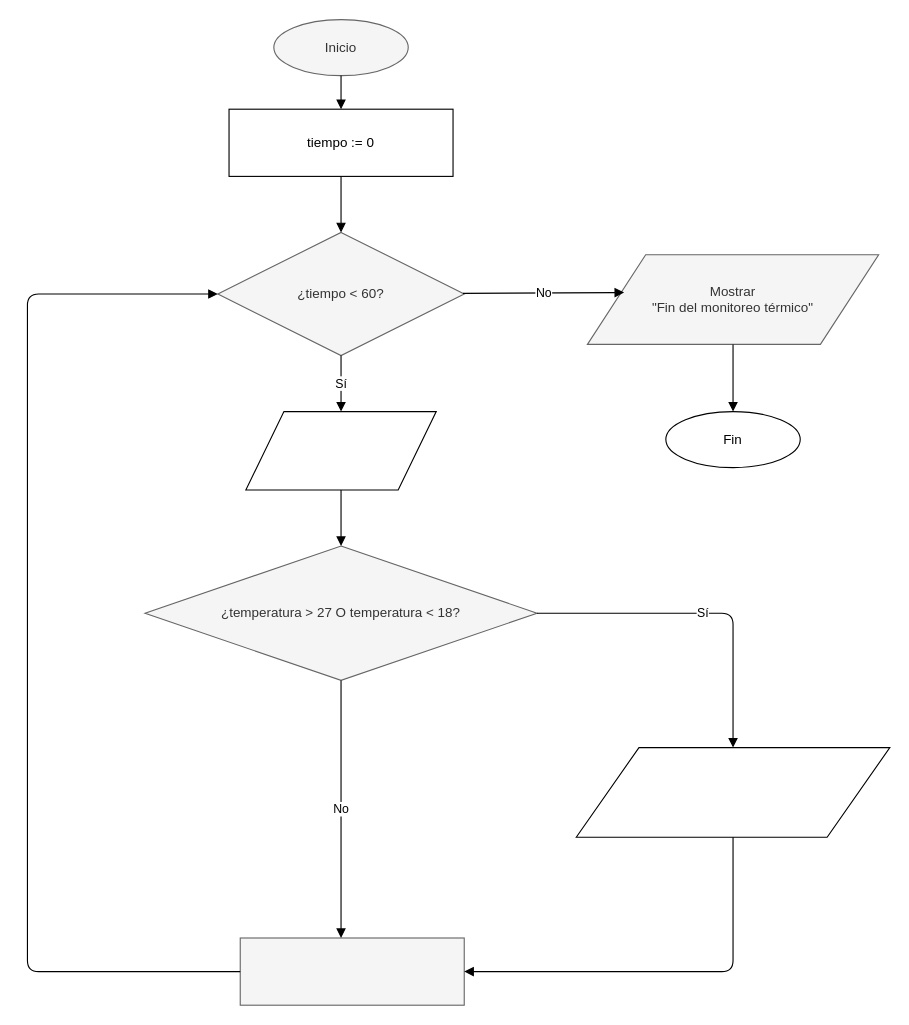
The diagram is 909 pixels wide and 1025 high, and some of its shapes have lost their labels. The shapes that lost their labels are listed below. From the top down, each one's centre as x and y in pixels, then its label:
(340,450): Leer temperatura
(732,791): Mostrar "Activar sistema de climatización"
(351,971): tiempo := tiempo + 5
